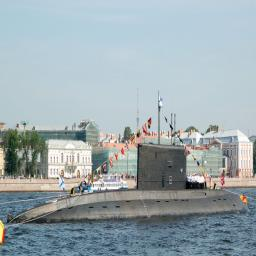submarine: (5, 97, 253, 225)
